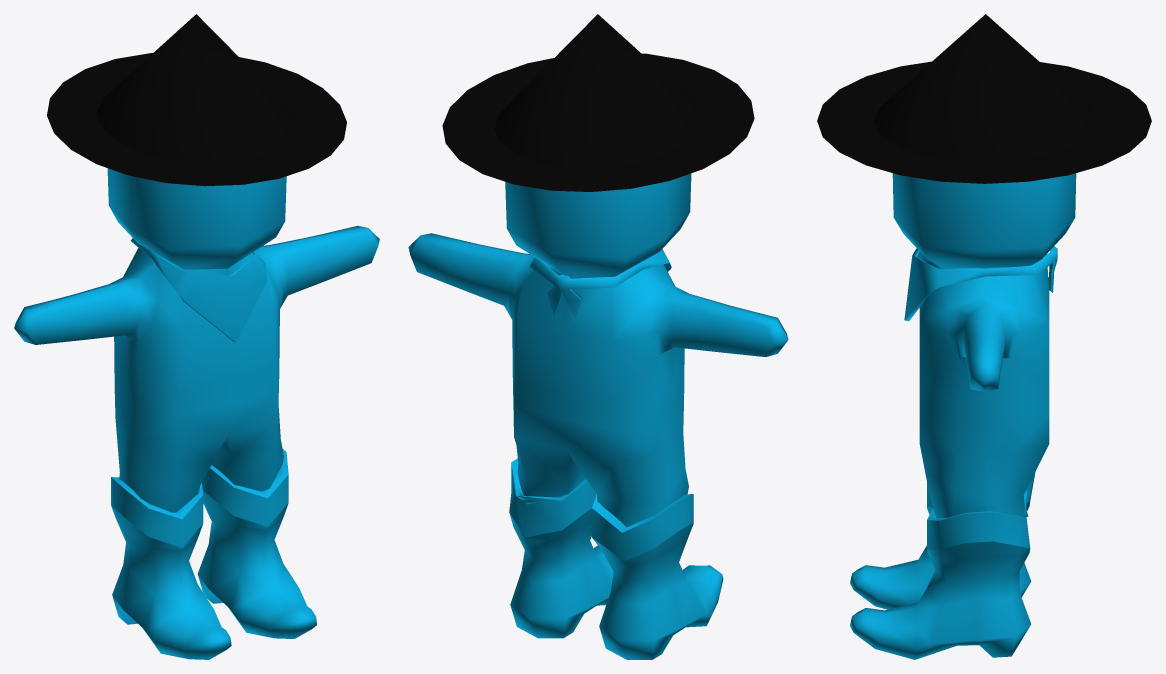
File: Cowboy02.fbx
The picture shows the model from 3 angles, left to right: view 1: azimuth 30°, elevation 25°; view 2: azimuth 150°, elevation 25°; view 3: azimuth 270°, elevation 25°; orthographic projection. The views are drawn at different scales.
Parts seen in each view (by area): view 1: polySurface4; view 2: polySurface4; view 3: polySurface4.
Boxes of the visible parts, x1,y1,x2,y2 form: polySurface4: [14, 14, 379, 659]; polySurface4: [408, 14, 788, 659]; polySurface4: [817, 14, 1151, 659].
Bounding box in the file's own units: 106 × 168 × 82.38.
